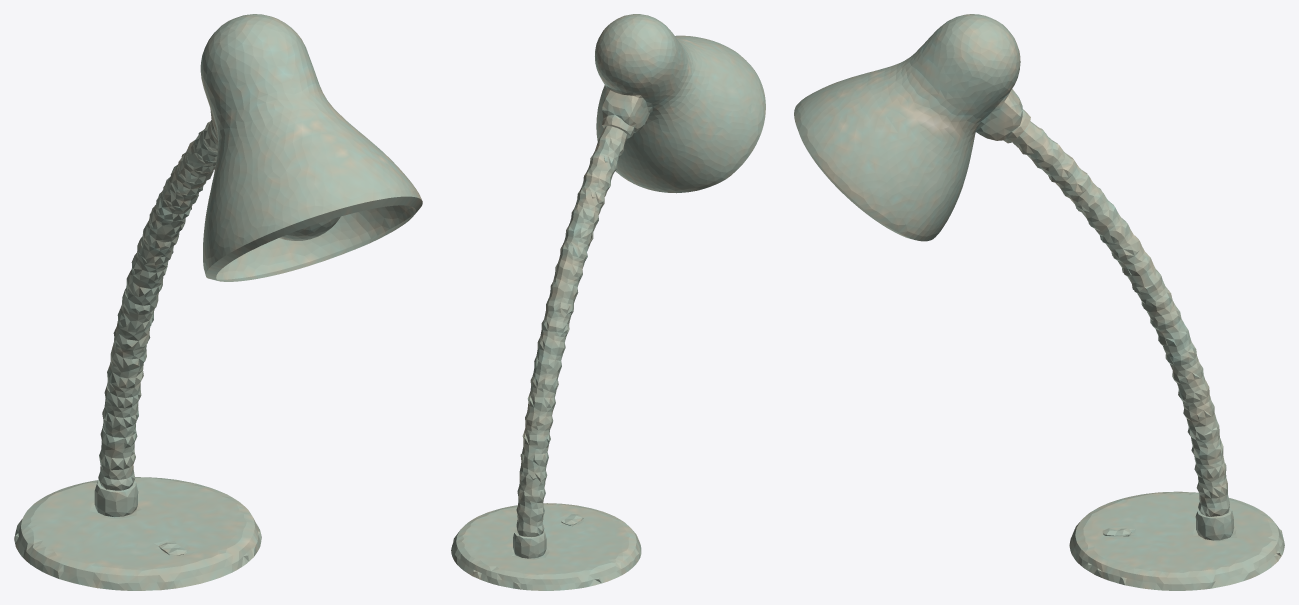
File: lamp3_final100.obj
3 views of the same model, side by side, from view 1: azimuth 30°, elevation 25°; view 2: azimuth 150°, elevation 25°; view 3: azimuth 270°, elevation 25° (orthographic). The views are drawn at different scales.
Bounding box in the file's own units: 0.5761 × 1.56 × 1.31.
